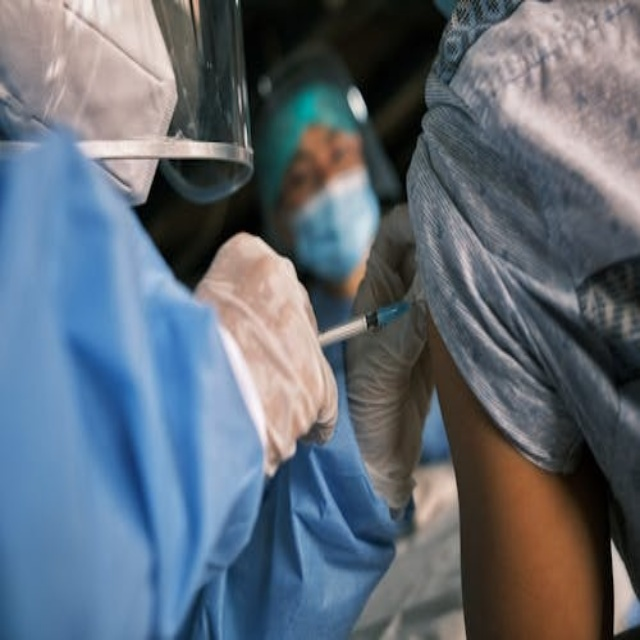Guantes: (192, 209, 342, 452), (332, 171, 438, 500)
Mascara: (0, 0, 184, 204), (283, 166, 379, 281)
Sin_gafas: (279, 127, 356, 202)
